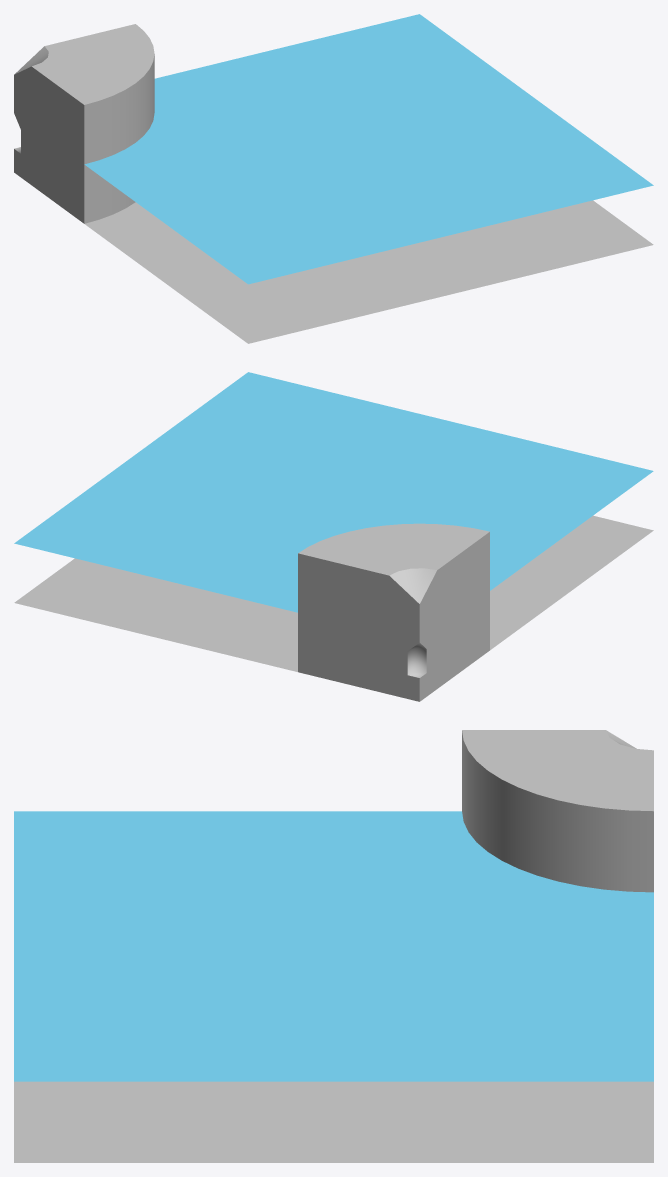
Rendered from fountain-corner-inner.obj.
The picture shows the model from 3 angles, top to bottom: view 1: azimuth 30°, elevation 25°; view 2: azimuth 150°, elevation 25°; view 3: azimuth 270°, elevation 25°; orthographic projection. The views are drawn at different scales.
Visible parts, largest first — view 1: (%ignore), fountain-corner-inner; view 2: (%ignore), fountain-corner-inner; view 3: (%ignore), fountain-corner-inner.
Boxes of the visible parts, bbox=[...] form: (%ignore): bbox=[84, 14, 653, 284]; fountain-corner-inner: bbox=[14, 24, 653, 343]; (%ignore): bbox=[14, 372, 653, 612]; fountain-corner-inner: bbox=[14, 515, 653, 701]; (%ignore): bbox=[14, 811, 653, 1081]; fountain-corner-inner: bbox=[14, 730, 653, 1162].
Size of the model in its own units: 1 by 0.28 by 1.
